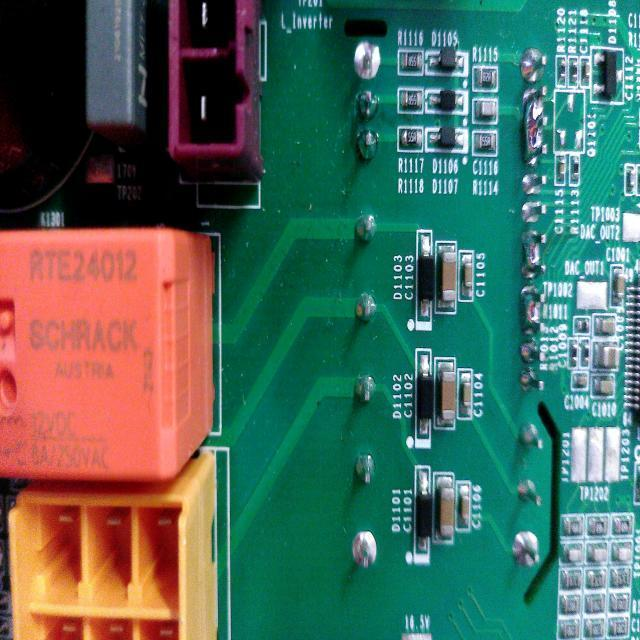Soldering shorted: (520, 85, 550, 168), (516, 228, 556, 283), (517, 285, 550, 337)
